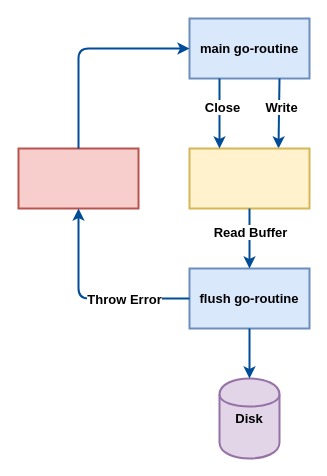
Some shapes in this 327 by 476 pixel diagram are drawn without their labels. Here are the shapes that lost their labels. From the top down, the box of each, then its label:
(17, 147, 139, 209): error channel
(188, 147, 310, 209): buffer channel
